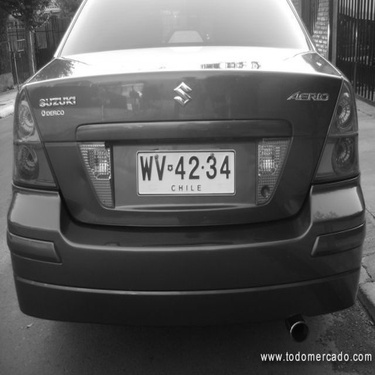car: (6, 5, 367, 339)
